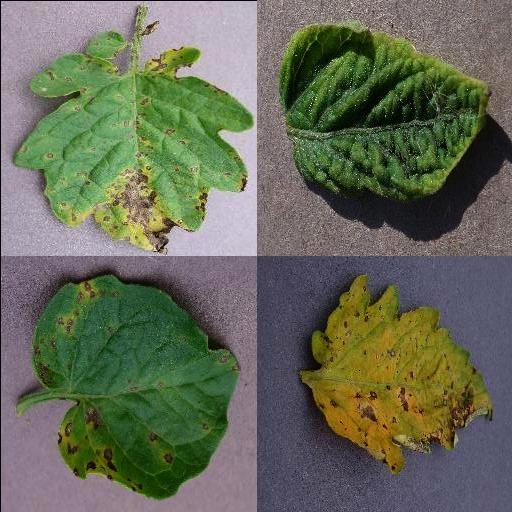Septoria: (13, 29, 252, 253), (33, 272, 241, 500), (301, 275, 493, 477)
Yellow Leaf Curl Virus: (279, 24, 493, 204)
